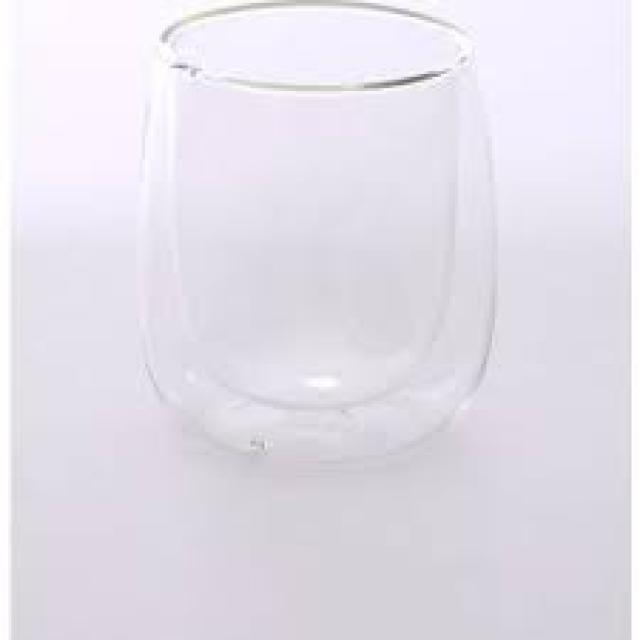Dry Waste: (125, 0, 502, 468)
